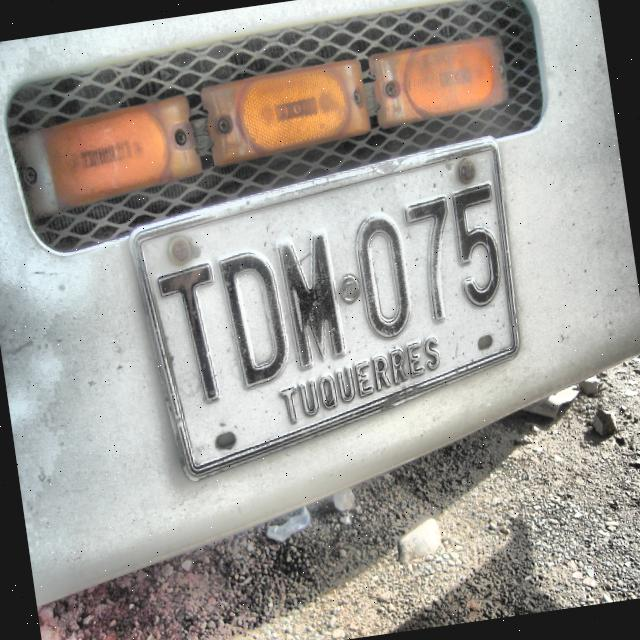0: (348, 200, 422, 347)
5: (448, 178, 507, 317)
7: (400, 184, 464, 335)
D: (212, 236, 297, 398)
M: (269, 218, 356, 379)
T: (152, 255, 240, 418)
